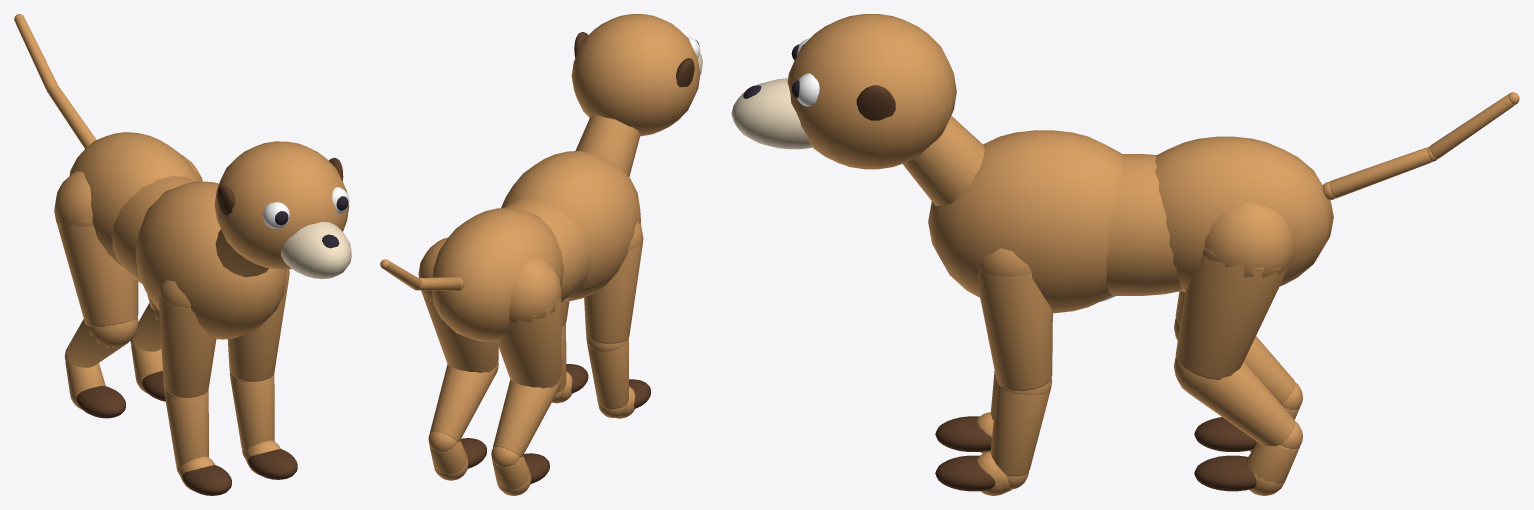
File: dog.glb
3 renders of one model, left to right at view 1: azimuth 30°, elevation 25°; view 2: azimuth 150°, elevation 25°; view 3: azimuth 270°, elevation 25°, orthographic. The views are drawn at different scales.
Visible parts, largest first — view 1: dog; view 2: dog; view 3: dog.
Boxes of the visible parts, x1,y1,x2,y2 form: dog: (14,14,351,495); dog: (380,14,702,495); dog: (731,14,1519,495).
Size of the model in its own units: 0.4834 by 1.23 by 1.94.
